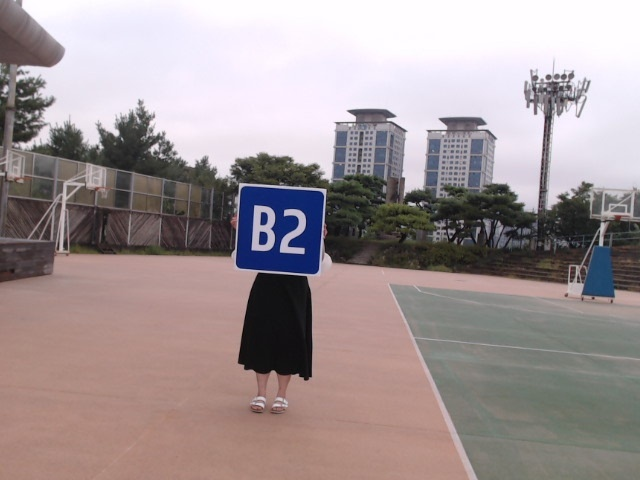delivery_b2: (236, 186, 326, 275)
